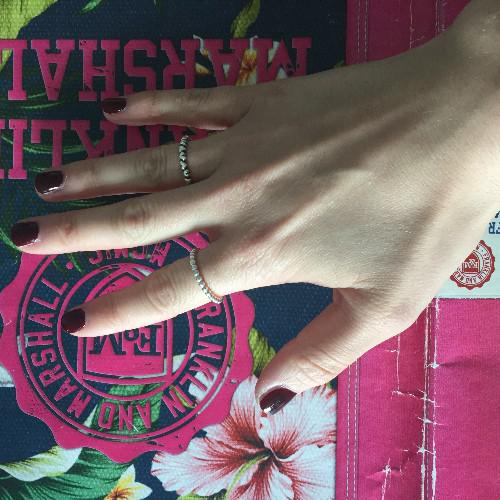paper: (7, 41, 486, 418)
